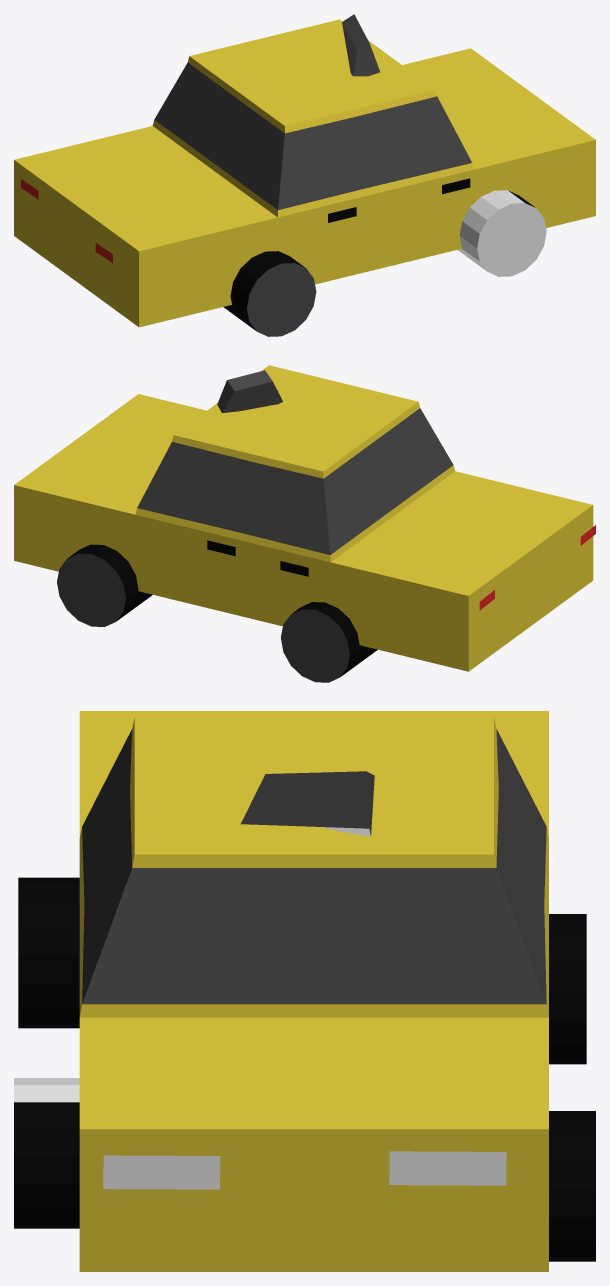
File: taxi.fbx
The picture shows the model from 3 angles, top to bottom: view 1: azimuth 30°, elevation 25°; view 2: azimuth 150°, elevation 25°; view 3: azimuth 270°, elevation 25°; orthographic projection. The views are drawn at different scales.
Parts seen in each view (by area): view 1: Cube; view 2: Cube; view 3: Cube.
Boxes of the visible parts, bbox=[...] form: Cube: bbox=[14, 14, 595, 336]; Cube: bbox=[14, 365, 595, 682]; Cube: bbox=[14, 711, 595, 1271].
Size of the model in its own units: 524 by 236 by 296.
